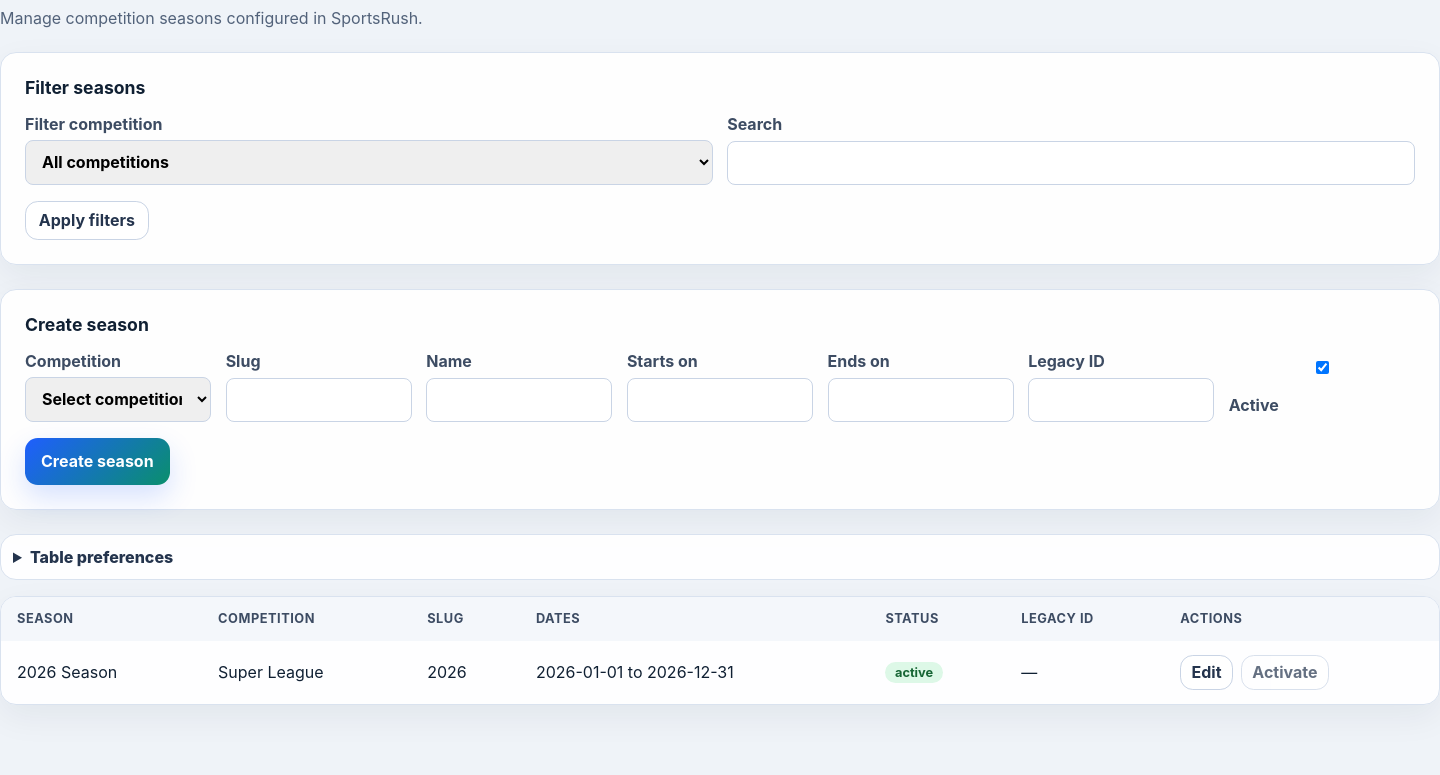
Scenario: SeasonsPage › edits a season and refreshes the list
expect the cell "2026 Season" is shown: met, box [1,640,202,704]
Click the button "Edit".
click(1207, 672)  # box [1180,655,1233,690]
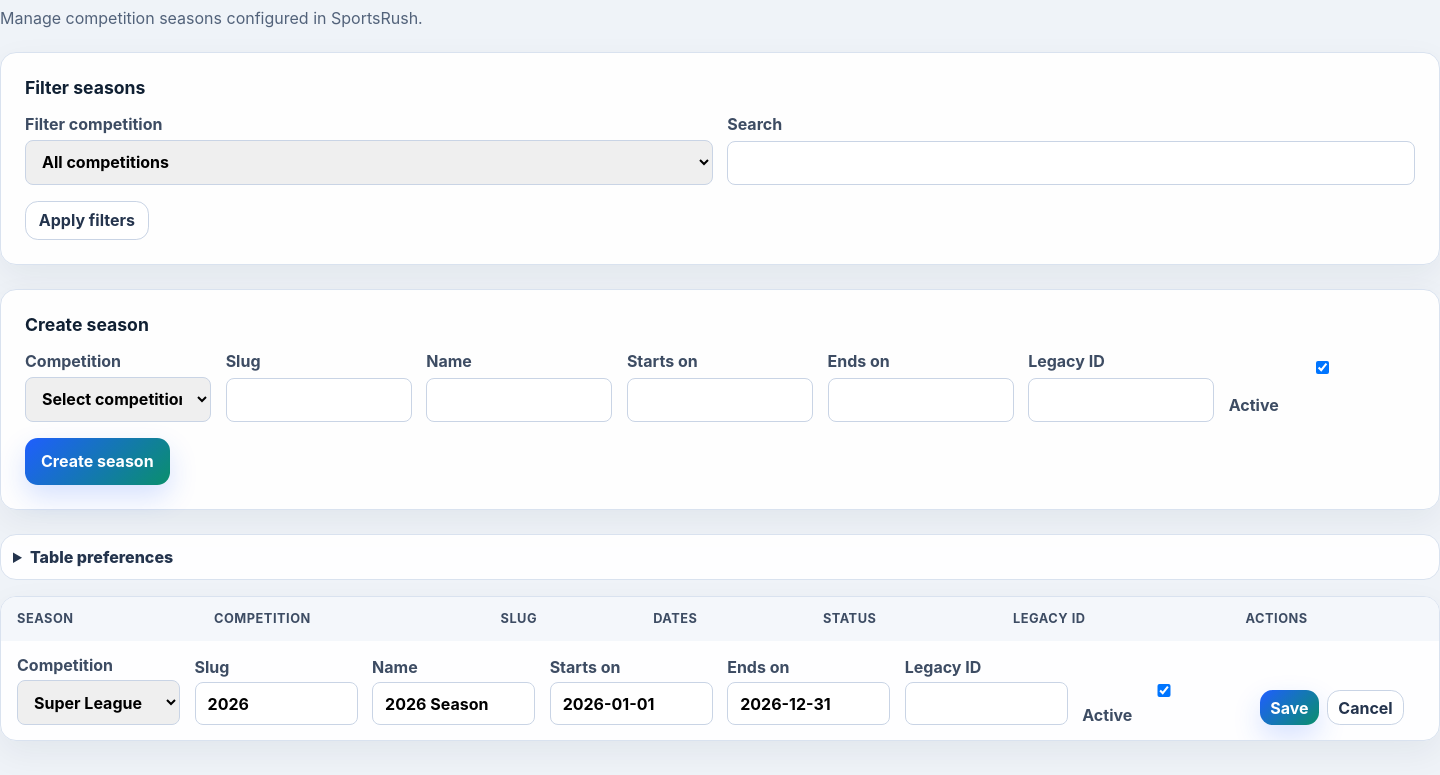
Replace the text in the field named "Edit name" with "2026 Regular Season" at (454, 704), box [372,682,535,725]
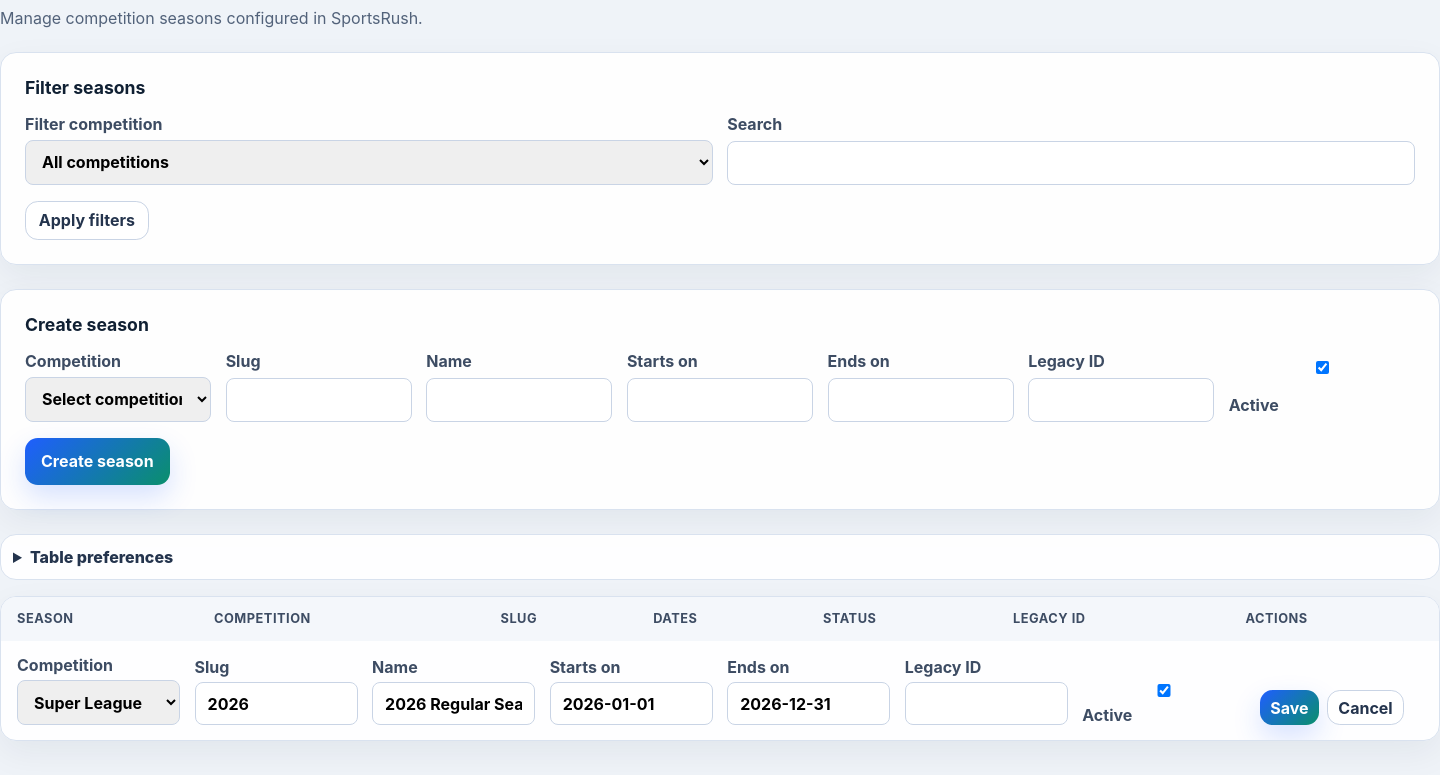
Click the button "Save".
click(1289, 708)  # box [1260,690,1319,725]
(page scrolled)
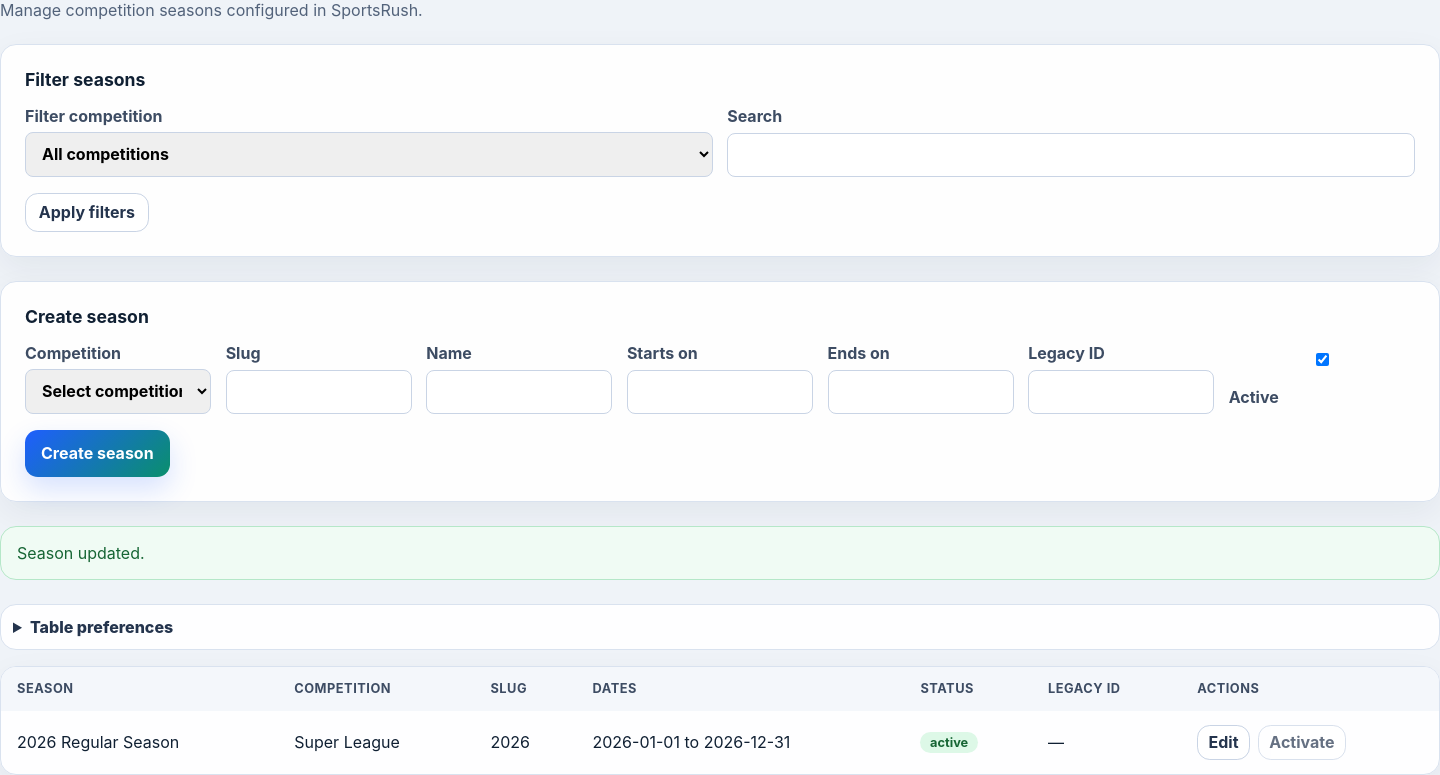
expect the text "Season updated." is shown: met, box [0,526,1439,580]
expect the cell "2026 Regular Season" is shown: met, box [1,710,278,774]
